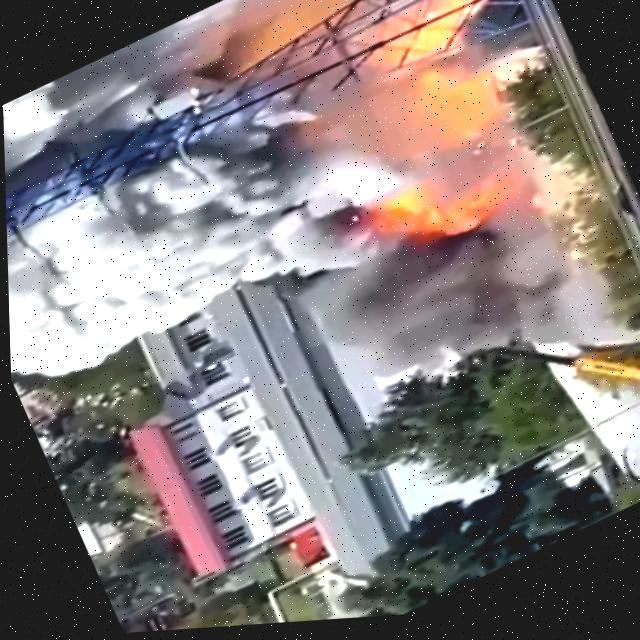Smoke: (0, 0, 554, 430)
